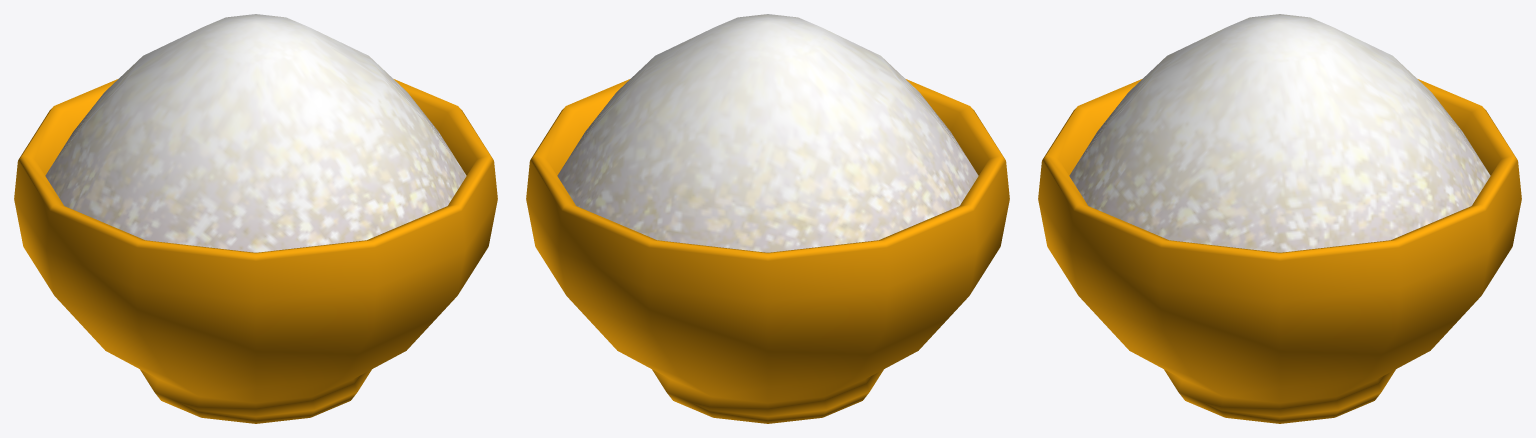
File: rice.fbx
3 renders of one model, left to right at view 1: azimuth 30°, elevation 25°; view 2: azimuth 150°, elevation 25°; view 3: azimuth 270°, elevation 25°, orthographic.
Visible parts, largest first — view 1: pCylinder2; view 2: pCylinder2; view 3: pCylinder2.
Part boxes in pixels (x1=…): pCylinder2: x1=14, y1=14, x2=497, y2=423; pCylinder2: x1=526, y1=14, x2=1009, y2=423; pCylinder2: x1=1038, y1=14, x2=1521, y2=423.
Bounding box in the file's own units: 3.47 × 2.83 × 3.47.
